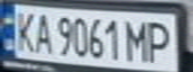0: (69, 14, 90, 58)
1: (103, 16, 124, 61)
6: (87, 15, 106, 60)
9: (51, 11, 75, 56)
A: (30, 10, 54, 55)
K: (9, 8, 39, 53)
M: (124, 16, 154, 63)
P: (142, 18, 178, 64)
